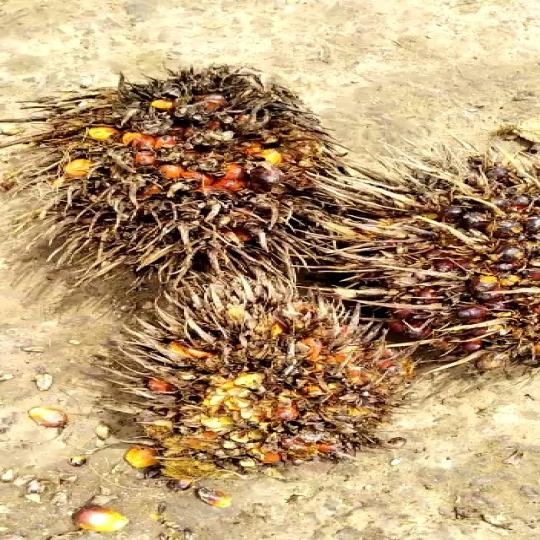terlalu masak: (18, 64, 344, 288), (92, 279, 439, 462)
